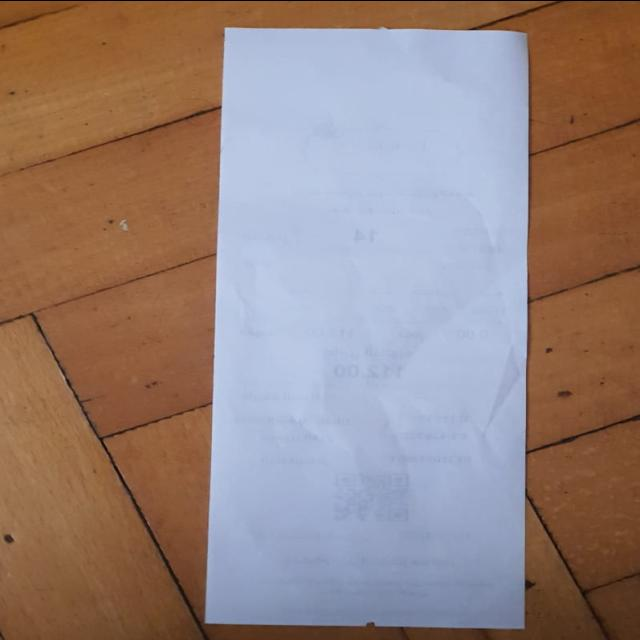paper: (186, 0, 552, 640)
